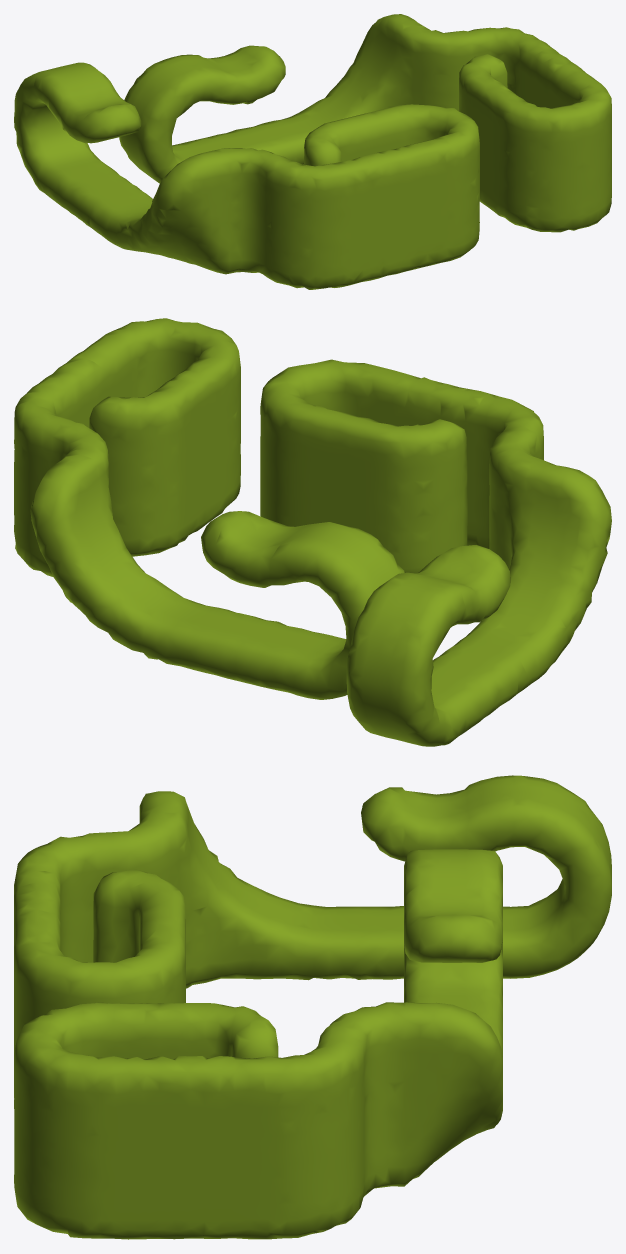
File: model_decimated.obj
3 renders of one model, top to bottom at view 1: azimuth 30°, elevation 25°; view 2: azimuth 150°, elevation 25°; view 3: azimuth 270°, elevation 25°, orthographic. The views are drawn at different scales.
Bounding box in the file's own units: 108 × 31 × 90.48.
